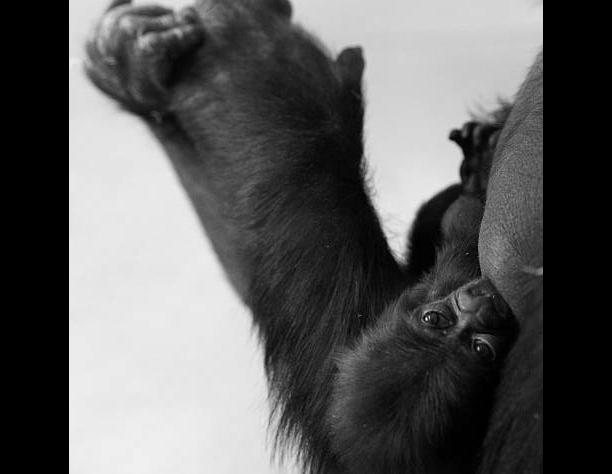gorille_Autres: (299, 194, 521, 474)
